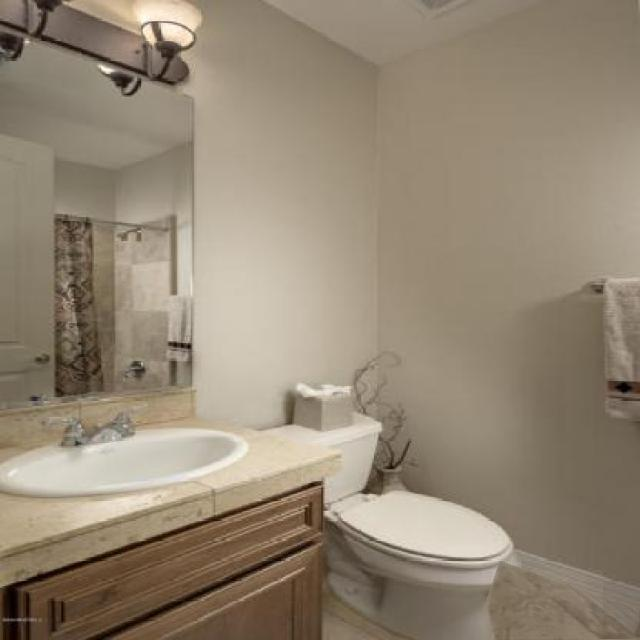floor: (492, 571, 603, 640), (322, 589, 406, 638)
